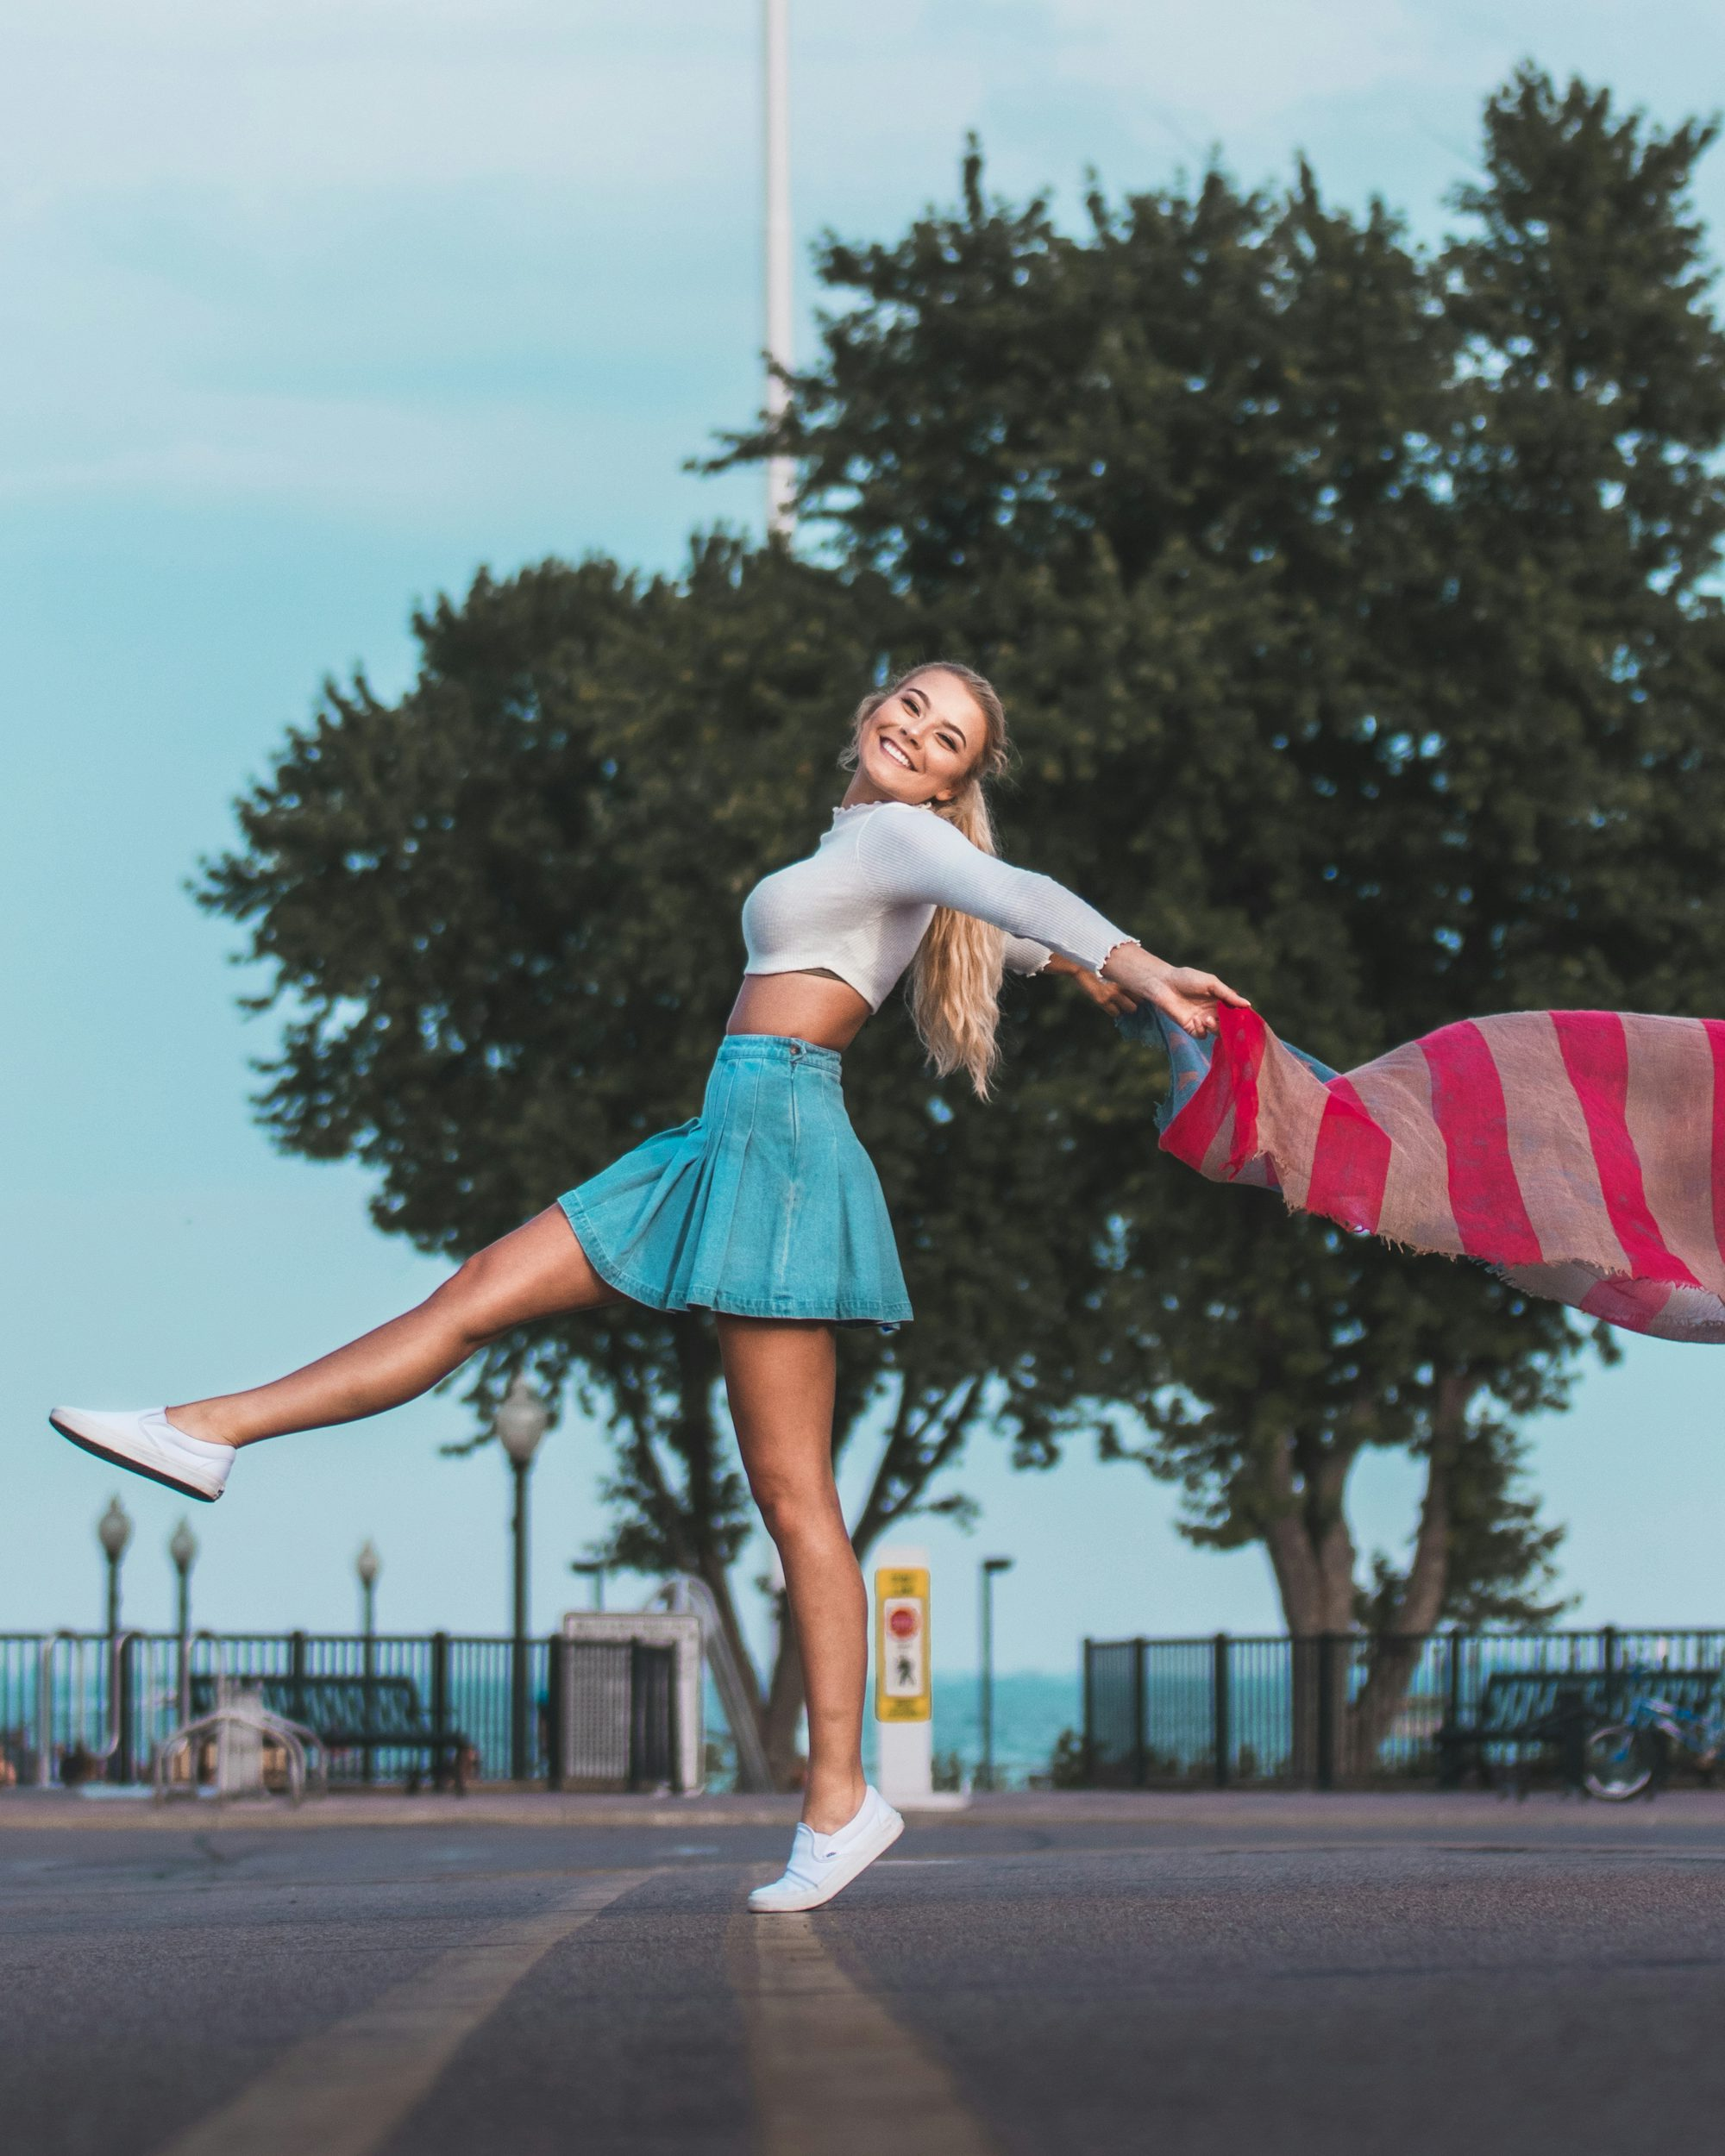person: (19, 489, 1662, 2147)
